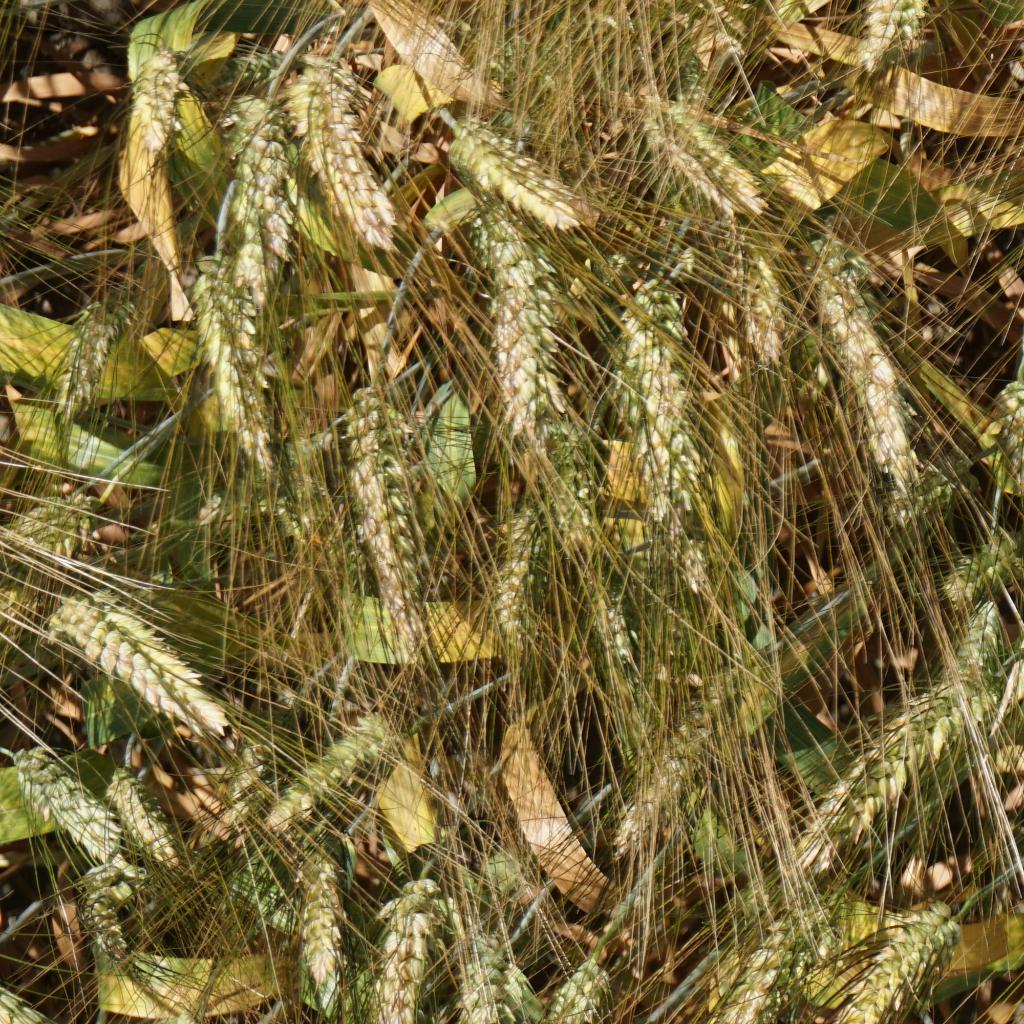0-0: (791, 658, 1017, 873), (327, 376, 446, 664), (53, 577, 242, 739), (172, 244, 290, 481), (815, 231, 914, 476), (295, 51, 401, 245), (186, 415, 348, 536), (714, 886, 849, 1024), (476, 212, 566, 413), (268, 709, 432, 819), (440, 122, 589, 227), (642, 102, 770, 223), (843, 906, 965, 1022), (610, 699, 708, 827), (6, 736, 112, 847), (624, 285, 679, 472), (64, 286, 140, 409), (176, 37, 281, 119), (484, 497, 542, 641), (233, 128, 299, 254), (0, 486, 92, 566), (198, 433, 312, 495), (292, 843, 341, 985), (462, 919, 528, 1024), (382, 887, 436, 1015), (110, 759, 181, 854), (732, 244, 785, 359), (73, 873, 139, 962), (650, 485, 706, 585), (133, 46, 186, 150), (554, 947, 618, 1024), (581, 570, 633, 664), (942, 530, 1007, 599), (890, 450, 951, 521), (213, 733, 262, 820), (548, 474, 600, 554), (666, 39, 716, 114), (952, 600, 993, 676), (494, 33, 537, 104), (285, 478, 335, 539), (593, 243, 637, 293), (887, 0, 929, 52), (1009, 616, 1024, 696)
